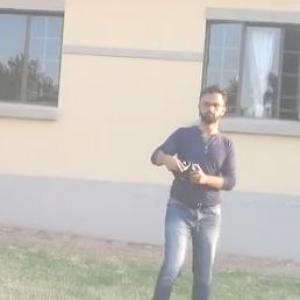follow: (144, 73, 243, 299)
